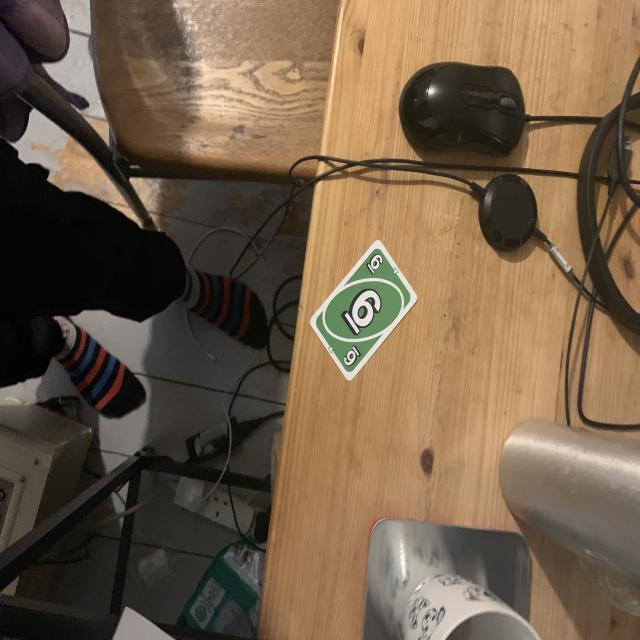lgreen-6: (364, 250, 387, 276)
